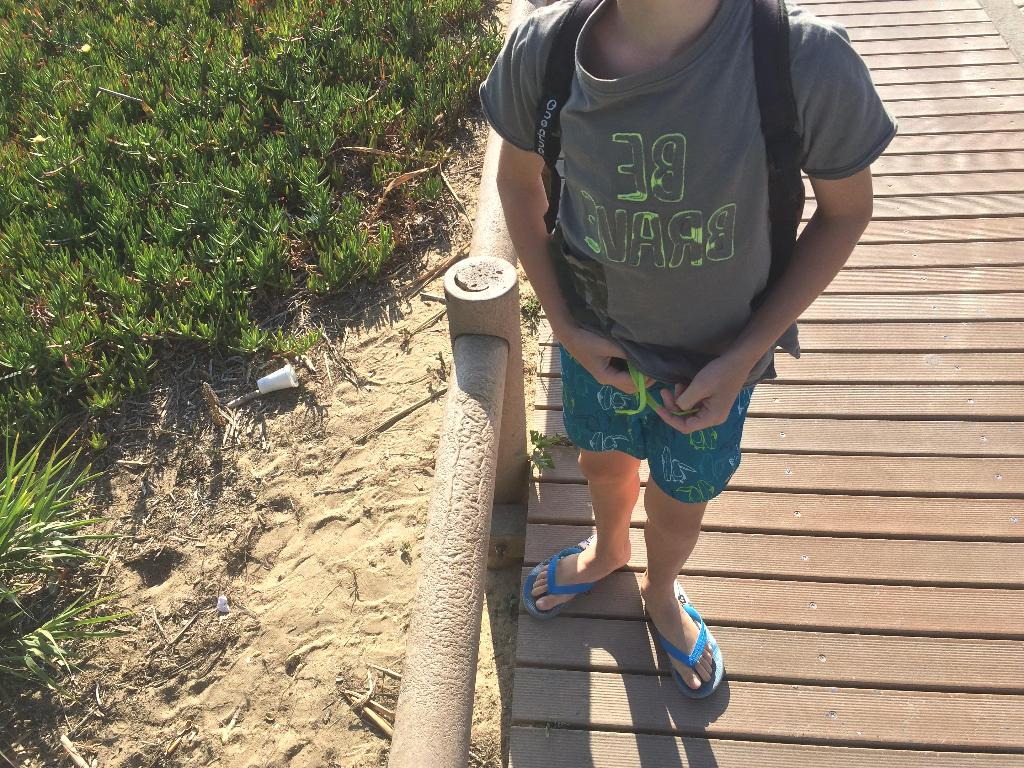garbage: (249, 345, 297, 410), (258, 364, 298, 394)
